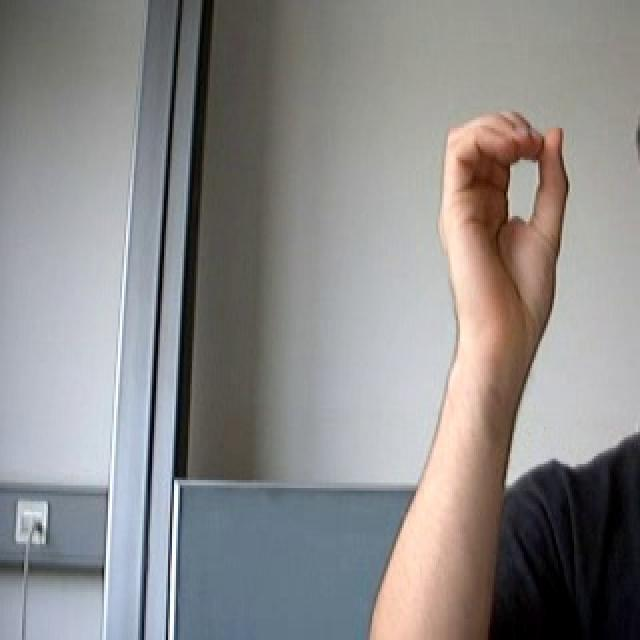O: (425, 98, 592, 393)
